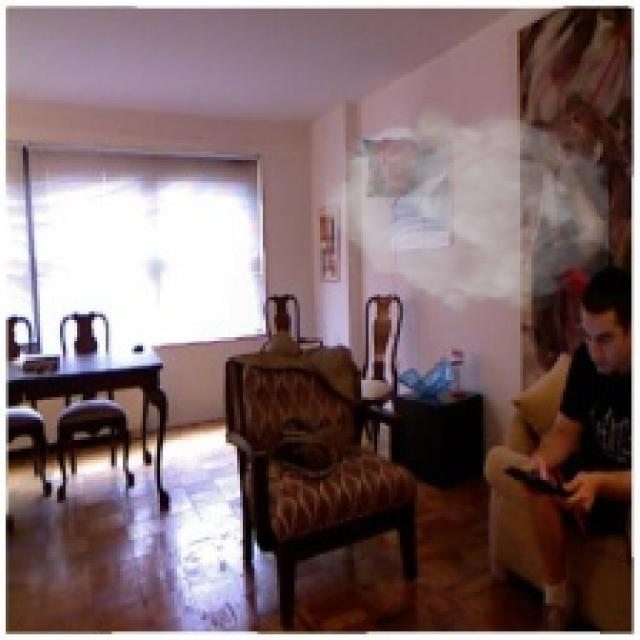smoke: (326, 100, 608, 320)
